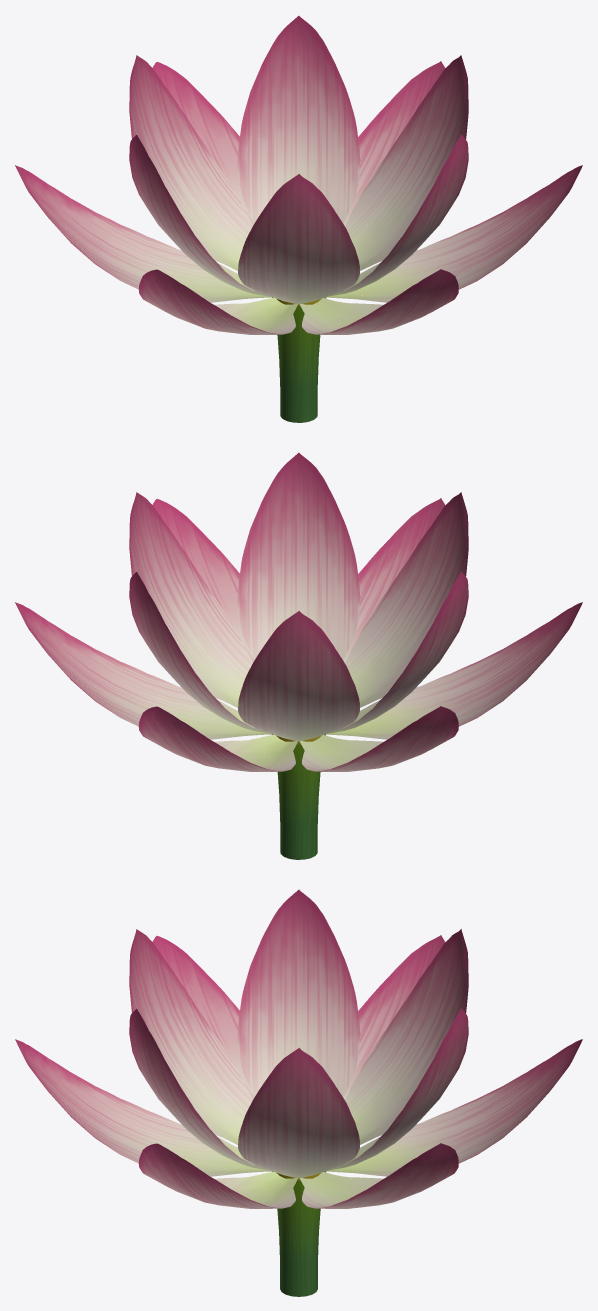
The model's file is lotus.fbx.
3 views of the same model, one above another, from view 1: azimuth 30°, elevation 25°; view 2: azimuth 150°, elevation 25°; view 3: azimuth 270°, elevation 25° (orthographic).
Visible parts, largest first — view 1: lotus; view 2: lotus; view 3: lotus.
Boxes of the visible parts, x1,y1,x2,y2 form: lotus: [15, 16, 582, 422]; lotus: [15, 453, 582, 859]; lotus: [15, 889, 582, 1296].
Bounding box in the file's own units: 17.57 × 12.57 × 20.18.
1 material, 1 textured.
